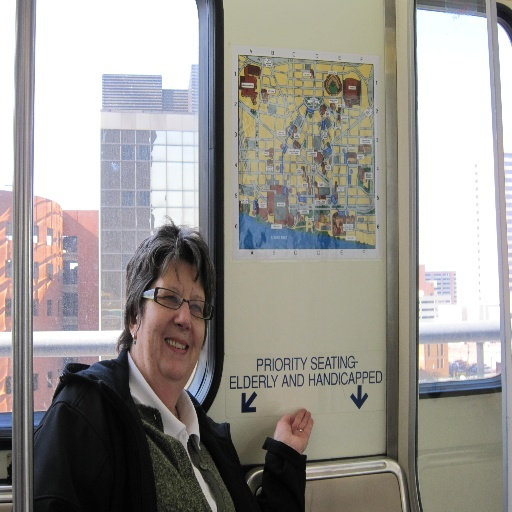hand: (271, 409, 318, 468)
